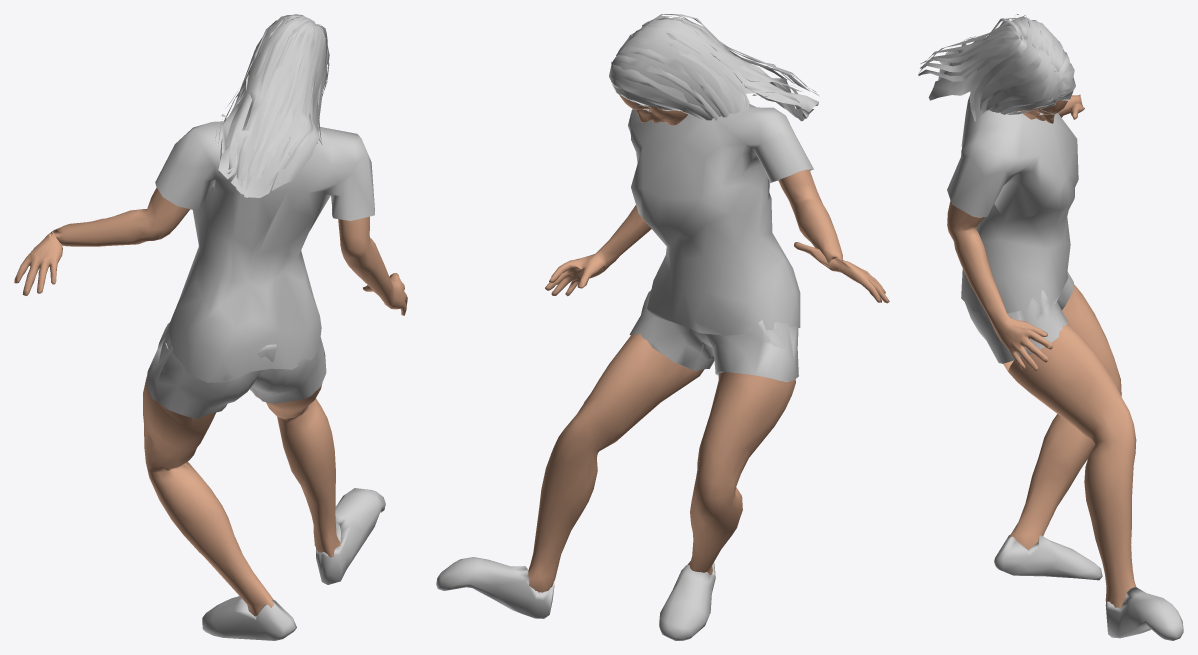
The model's file is player2att_000026.obj.
3 views of the same model, side by side, from view 1: azimuth 30°, elevation 25°; view 2: azimuth 150°, elevation 25°; view 3: azimuth 270°, elevation 25° (orthographic). The views are drawn at different scales.
Parts seen in each view (by area): view 1: player2:tshirt02, player2:Body, player2:fhair01, player2:short01, player2:shoes02; view 2: player2:Body, player2:tshirt02, player2:fhair01, player2:short01, player2:shoes02; view 3: player2:Body, player2:tshirt02, player2:fhair01, player2:shoes02, player2:short01.
Boxes of the visible parts, x1=… form: player2:tshirt02: x1=155, y1=121, x2=374, y2=382; player2:Body: x1=14, y1=137, x2=407, y2=616; player2:fhair01: x1=215, y1=14, x2=329, y2=197; player2:short01: x1=146, y1=322, x2=326, y2=418; player2:shoes02: x1=202, y1=488, x2=385, y2=640; player2:Body: x1=528, y1=94, x2=889, y2=592; player2:tshirt02: x1=628, y1=104, x2=813, y2=335; player2:fhair01: x1=609, y1=14, x2=819, y2=168; player2:short01: x1=629, y1=290, x2=798, y2=381; player2:shoes02: x1=436, y1=557, x2=715, y2=640; player2:Body: x1=947, y1=94, x2=1136, y2=607; player2:tshirt02: x1=947, y1=95, x2=1078, y2=313; player2:fhair01: x1=918, y1=14, x2=1075, y2=121; player2:shoes02: x1=994, y1=535, x2=1183, y2=640; player2:short01: x1=964, y1=271, x2=1074, y2=363.
Size of the model in its own units: 10.63 by 15.15 by 6.27.
